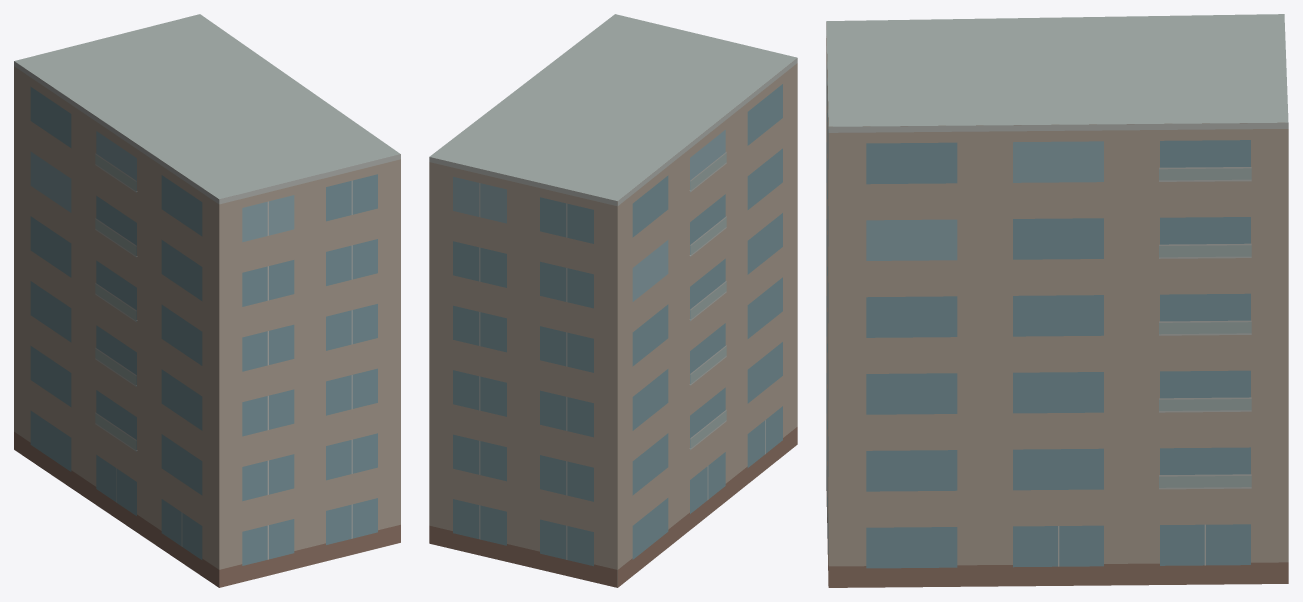
The model's file is survey-upis-32986426.glb.
3 views of the same model, side by side, from view 1: azimuth 30°, elevation 25°; view 2: azimuth 150°, elevation 25°; view 3: azimuth 270°, elevation 25° (orthographic). The views are drawn at different scales.
Visible parts, largest first — view 1: survey-upis-32986426.tmp; view 2: survey-upis-32986426.tmp; view 3: survey-upis-32986426.tmp.
Boxes of the visible parts, x1,y1,x2,y2 form: survey-upis-32986426.tmp: (14, 14, 400, 587); survey-upis-32986426.tmp: (429, 14, 797, 587); survey-upis-32986426.tmp: (826, 14, 1288, 587).
Bounding box in the file's own units: 9.61 × 18.3 × 16.63.
